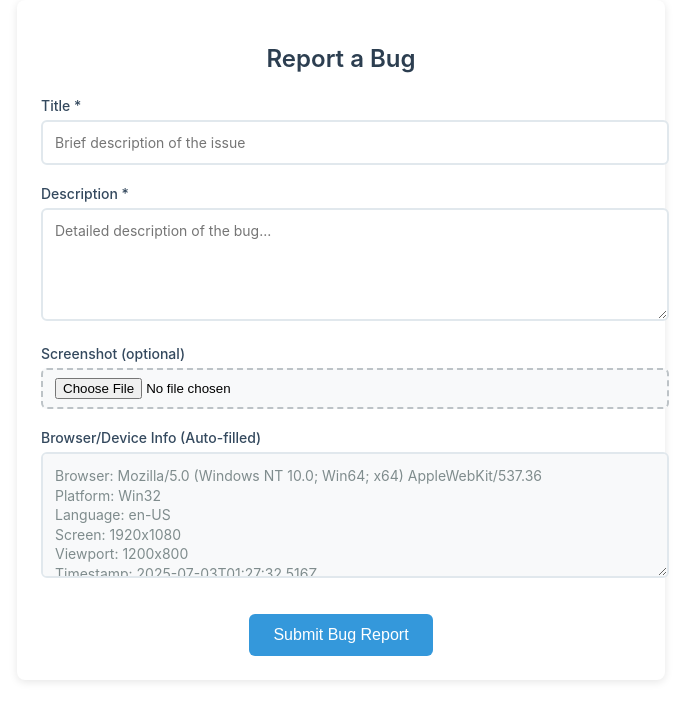
Test: BugReportForm › Title and Description Input › clears validation errors when user starts typing
// Submit empty form to trigger validation errors
Click the button "Submit Bug Report". click: (341, 635)
box: [249,614,433,656]
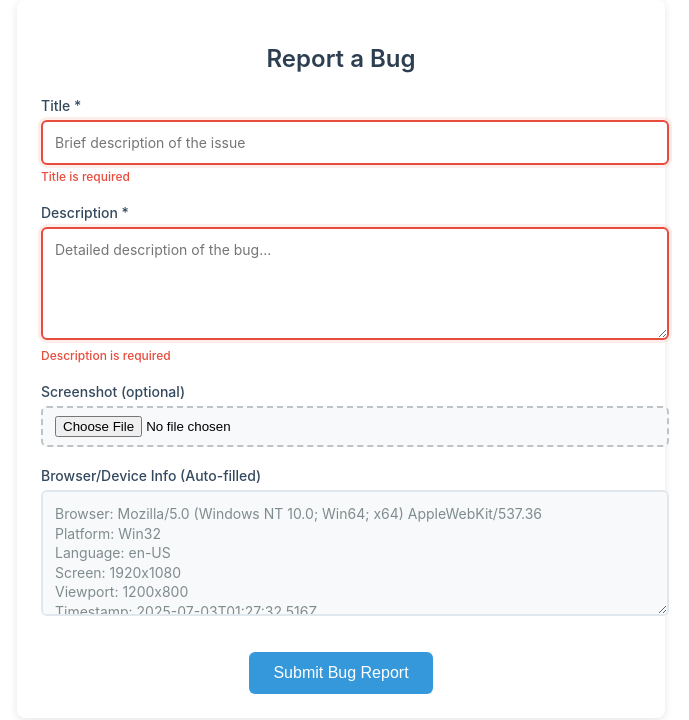
Expected: the text "Title is required" is shown, [41,169,130,184]
// Start typing in title field
Type "T" into the field labelled "Title *". click: (355, 142)
box: [41,120,669,165]
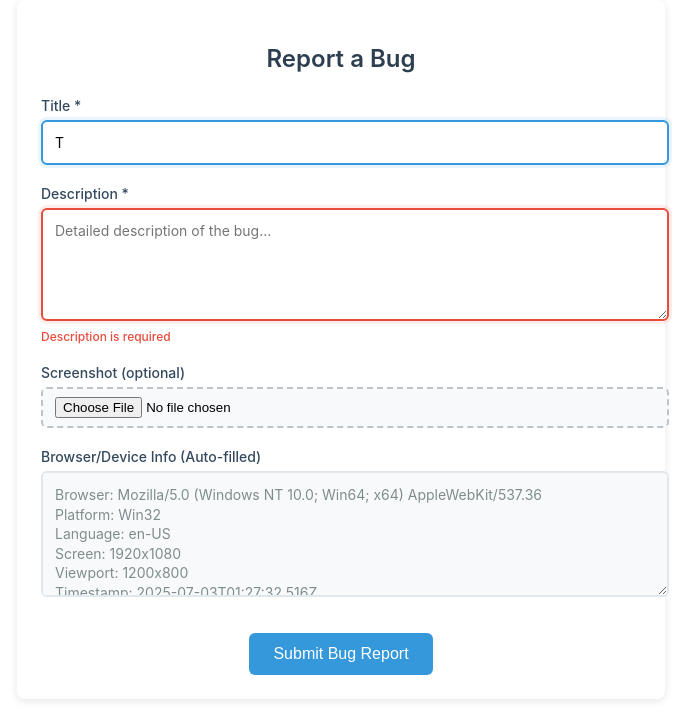
Expected: the text "Title is required" is gone
